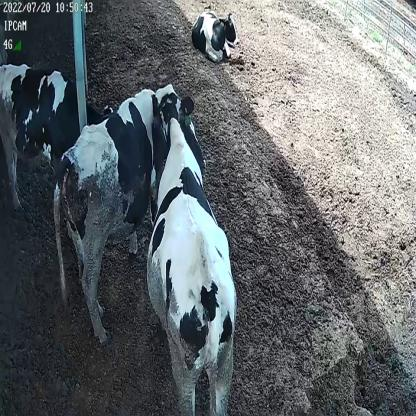cow: (50, 86, 188, 338), (146, 81, 240, 413), (0, 55, 108, 211), (190, 5, 239, 63)
